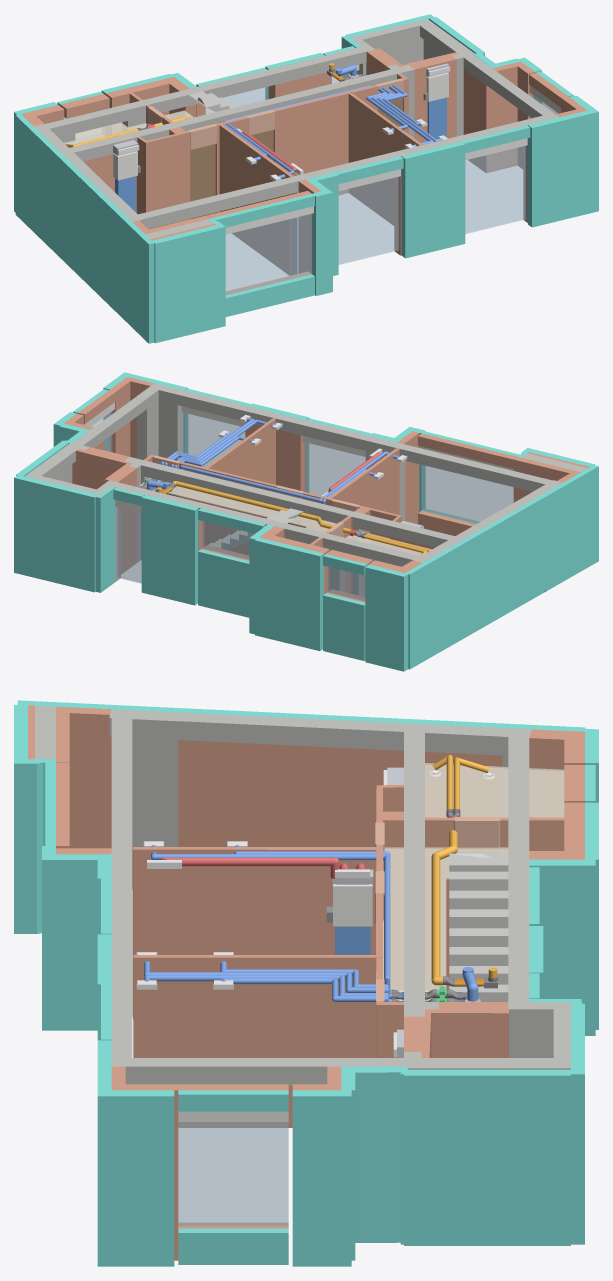
File: HouseEM_AR_F1_open.glb
3 renders of one model, top to bottom at view 1: azimuth 30°, elevation 25°; view 2: azimuth 150°, elevation 25°; view 3: azimuth 270°, elevation 25°, orthographic. The views are drawn at different scales.
Parts seen in each view (by area): view 1: F1-ET06, F1-ET04, F1-ET17, F1-ET01, F1-EO07, F1-INTW11, F1-INTW08, F1-EO05, F1-EO06, F1-INTW10, F1-BEAM05, F1-COL07 (+48 smaller); view 2: F1-ET06, F1-ET14, F1-ET07, F1-ET18, F1-ET05, F1-EO07, F1-BEAM02, F1-BEAM08, F1-EO02-SILL-ET, F1-COL02, F1-EO01-SILL-ET, F1-INTW08 (+41 smaller); view 3: F1-ET13, F1-INTW10, F1-BW04, F1-INTW08, F1-ET02, F1-EO04, F1-ET08, F1-ET16, F1-ET10, F1-ST01, F1-ET21, F1-BEAM03 (+53 smaller).
Part boxes in pixels (x1=…): F1-ET06: x1=15, y1=114, x2=154, y2=343; F1-ET04: x1=152, y1=224, x2=225, y2=343; F1-ET17: x1=401, y1=142, x2=465, y2=258; F1-ET01: x1=528, y1=110, x2=591, y2=227; F1-EO07: x1=225, y1=214, x2=311, y2=295; F1-INTW11: x1=273, y1=91, x2=351, y2=194; F1-INTW08: x1=217, y1=124, x2=293, y2=275; F1-EO05: x1=465, y1=146, x2=525, y2=233; F1-EO06: x1=338, y1=177, x2=398, y2=264; F1-INTW10: x1=348, y1=93, x2=422, y2=225; F1-BEAM05: x1=128, y1=45, x2=374, y2=112; F1-COL07: x1=350, y1=19, x2=474, y2=136; F1-ET06: x1=405, y1=465, x2=598, y2=669; F1-ET14: x1=14, y1=475, x2=97, y2=592; F1-ET07: x1=255, y1=537, x2=323, y2=650; F1-ET18: x1=141, y1=495, x2=198, y2=605; F1-ET05: x1=365, y1=564, x2=409, y2=671; F1-EO07: x1=421, y1=465, x2=513, y2=523; F1-BEAM02: x1=149, y1=383, x2=404, y2=450; F1-BEAM08: x1=124, y1=460, x2=363, y2=523; F1-EO02-SILL-ET: x1=198, y1=549, x2=249, y2=617; F1-COL02: x1=137, y1=383, x2=183, y2=460; F1-EO01-SILL-ET: x1=323, y1=593, x2=365, y2=660; F1-INTW08: x1=328, y1=448, x2=399, y2=514; F1-ET13: x1=407, y1=1069, x2=570, y2=1245; F1-INTW10: x1=133, y1=955, x2=375, y2=1127; F1-BW04: x1=178, y1=740, x2=403, y2=846; F1-INTW08: x1=132, y1=847, x2=376, y2=1019; F1-ET02: x1=97, y1=1090, x2=174, y2=1266; F1-EO04: x1=178, y1=1122, x2=288, y2=1226; F1-ET08: x1=292, y1=1090, x2=351, y2=1266; F1-ET16: x1=529, y1=859, x2=595, y2=1035; F1-ET10: x1=355, y1=1066, x2=400, y2=1242; F1-ST01: x1=449, y1=853, x2=508, y2=1001; F1-ET21: x1=56, y1=854, x2=97, y2=1030; F1-BEAM03: x1=109, y1=709, x2=425, y2=750.
Bounding box in the file's own units: 13.45 × 2.7 × 8.4.
